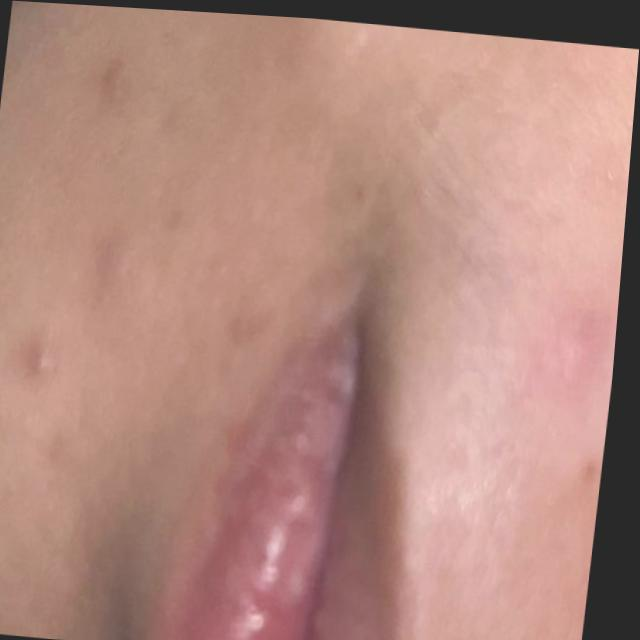papule: (527, 260, 622, 419), (74, 180, 145, 323)
pustule: (0, 330, 65, 412)
